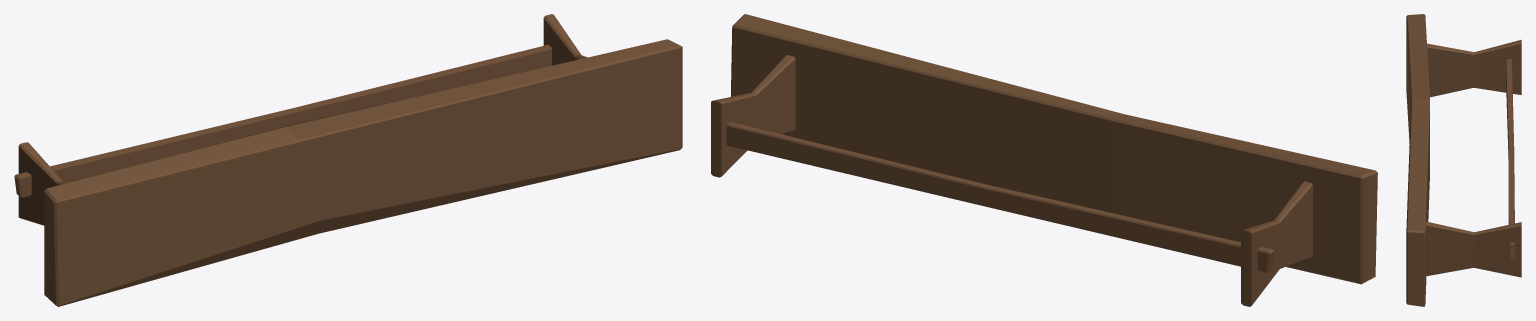
File: Chair_02.fbx
3 renders of one model, left to right at view 1: azimuth 30°, elevation 25°; view 2: azimuth 150°, elevation 25°; view 3: azimuth 270°, elevation 25°, orthographic. The views are drawn at different scales.
Visible parts, largest first — view 1: Chair_2.0_LOW.003; view 2: Chair_2.0_LOW.003; view 3: Chair_2.0_LOW.003.
Part boxes in pixels (x1,y1,x2,y2): Chair_2.0_LOW.003: [14, 14, 682, 306]; Chair_2.0_LOW.003: [711, 14, 1377, 306]; Chair_2.0_LOW.003: [1406, 14, 1521, 306].
Size of the model in its own units: 180 by 30.02 by 40.06.
